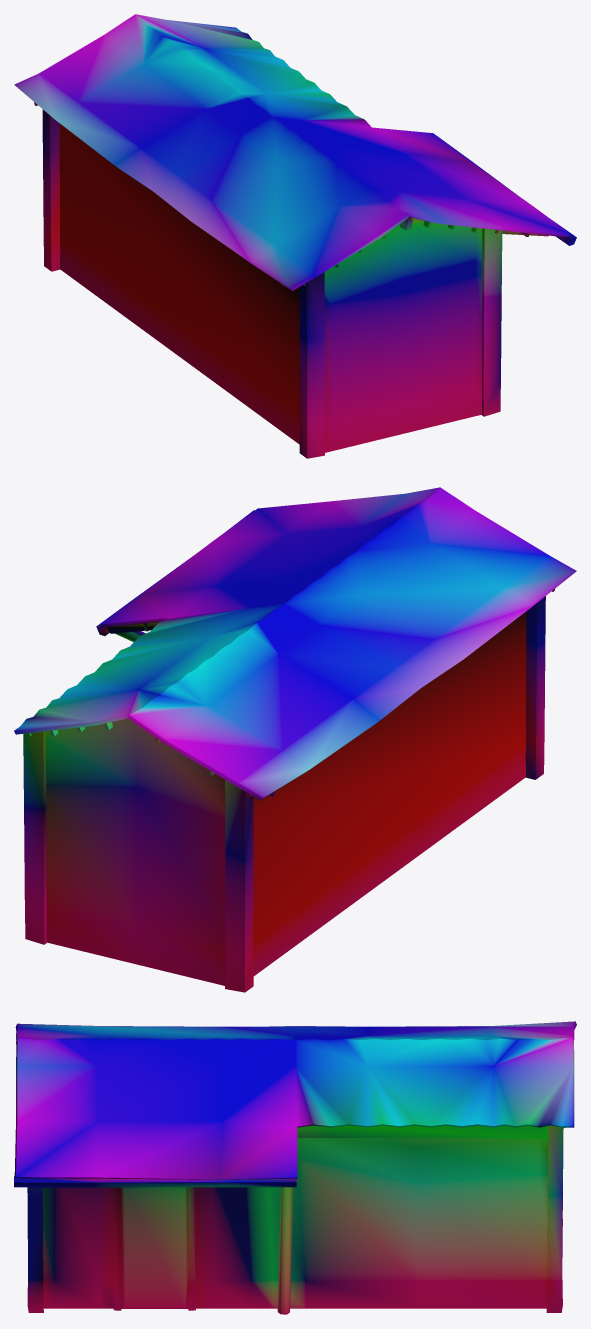
Rendered from Demo_Building_Gumball_EnviroMix_Shader.fbx.
3 renders of one model, top to bottom at view 1: azimuth 30°, elevation 25°; view 2: azimuth 150°, elevation 25°; view 3: azimuth 270°, elevation 25°, orthographic. The views are drawn at different scales.
Visible parts, largest first — view 1: Test_Building .001, Test_Building .002, Test_Building .003; view 2: Test_Building .001, Test_Building .002, Test_Building .003; view 3: Test_Building .001, Test_Building .002, Test_Building .006, Test_Building .005, Test_Building .003, Test_Building .004.
Boxes of the visible parts, left/top/right/bottom form: Test_Building .001: left=14, top=14, right=571, bottom=290; Test_Building .002: left=59, top=123, right=482, bottom=452; Test_Building .003: left=42, top=109, right=502, bottom=458; Test_Building .001: left=14, top=487, right=576, bottom=800; Test_Building .002: left=46, top=612, right=526, bottom=985; Test_Building .003: left=23, top=596, right=545, bottom=992; Test_Building .001: left=14, top=1021, right=576, bottom=1179; Test_Building .002: left=42, top=1138, right=548, bottom=1308; Test_Building .006: left=121, top=1187, right=188, bottom=1308; Test_Building .005: left=16, top=1041, right=565, bottom=1310; Test_Building .003: left=27, top=1126, right=563, bottom=1312; Test_Building .004: left=14, top=1172, right=296, bottom=1314.
Bounding box in the file's own units: 127 × 95.65 × 214.
